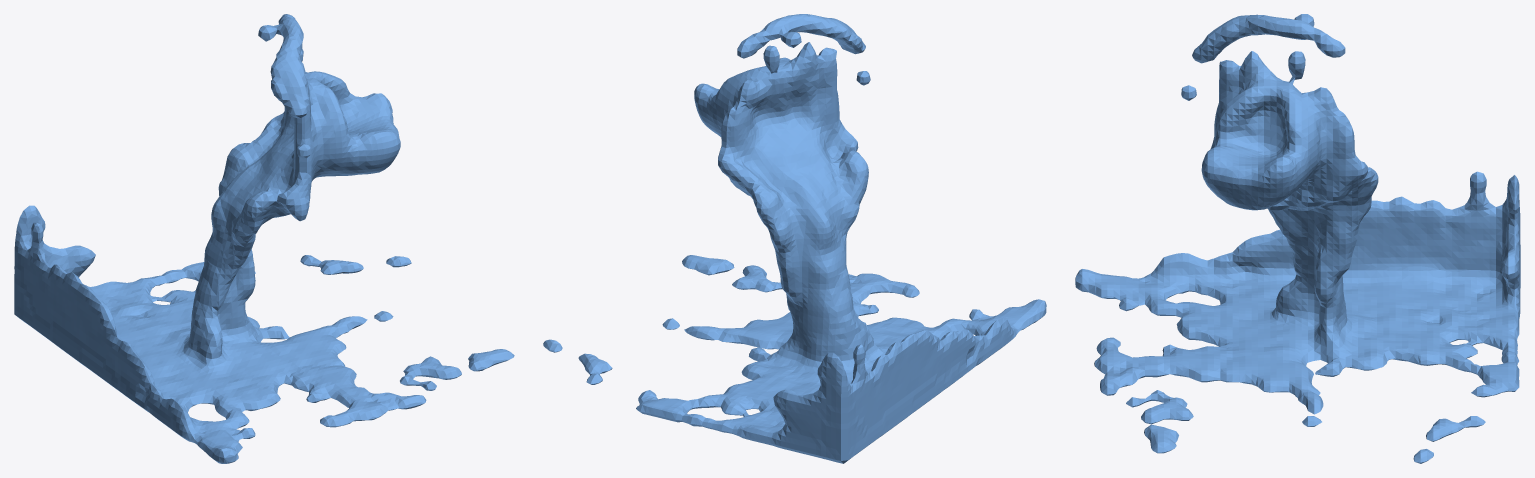
The model's file is water_0044.glb.
The picture shows the model from 3 angles, left to right: view 1: azimuth 30°, elevation 25°; view 2: azimuth 150°, elevation 25°; view 3: azimuth 270°, elevation 25°; orthographic projection. The views are drawn at different scales.
Visible parts, largest first — view 1: Water_0044; view 2: Water_0044; view 3: Water_0044.
Boxes of the visible parts, x1,y1,x2,y2 form: Water_0044: [14, 14, 514, 463]; Water_0044: [543, 14, 1046, 463]; Water_0044: [1075, 14, 1520, 463].
Bounding box in the file's own units: 4.04 × 3.64 × 4.14.
